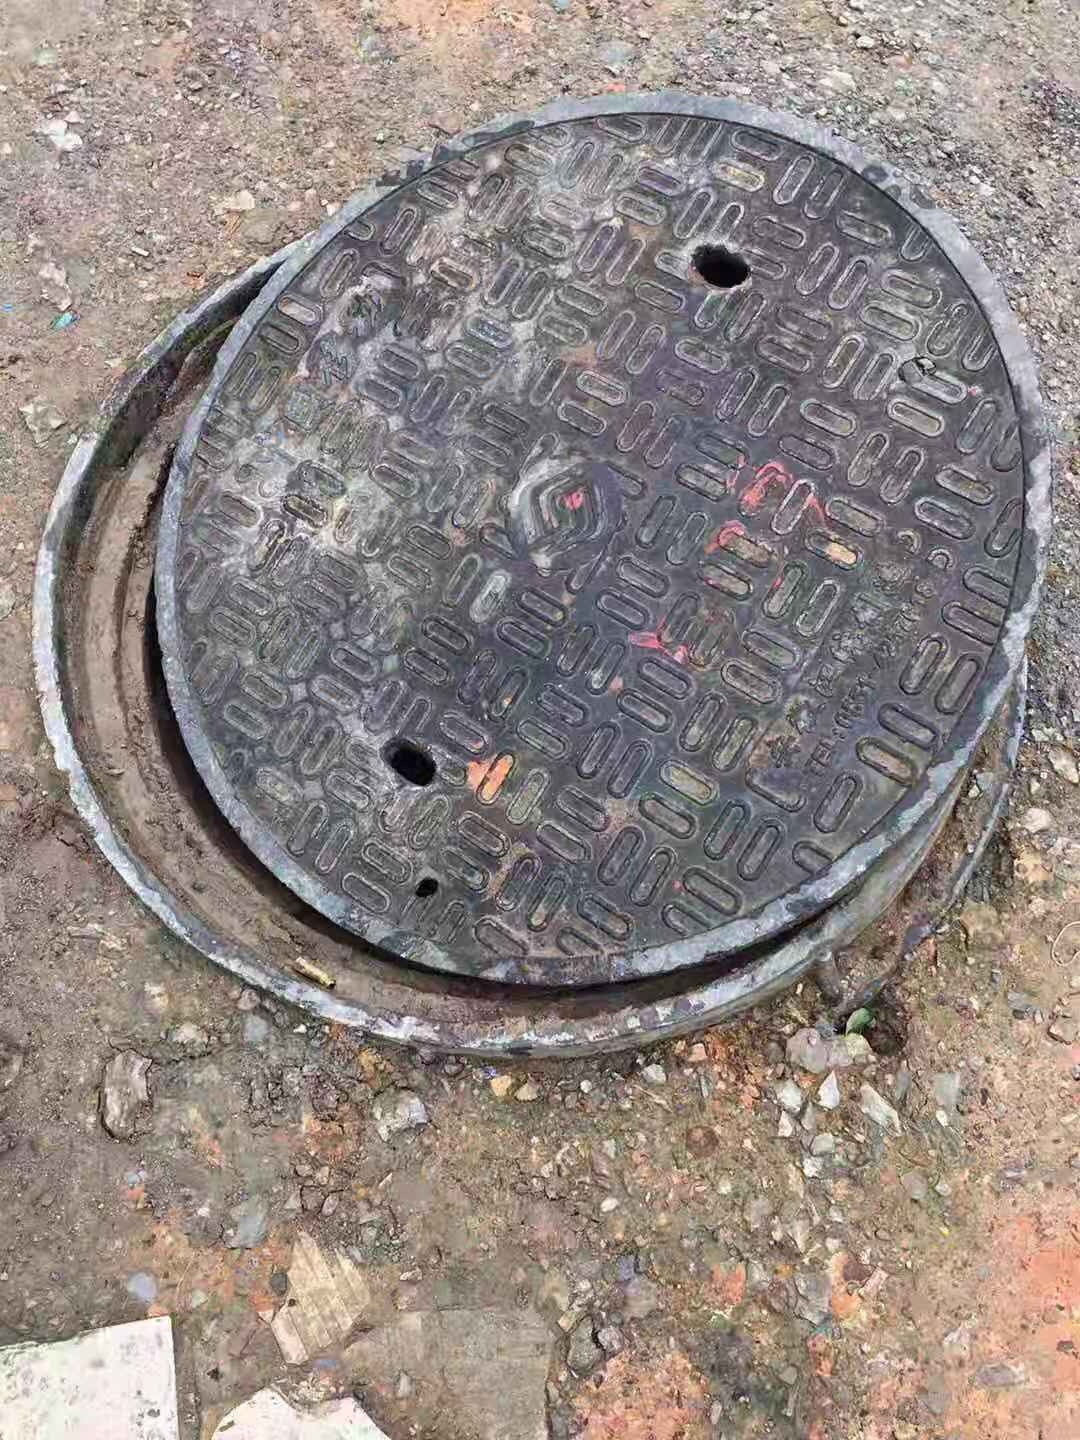uncovered: (29, 82, 1052, 1056)
